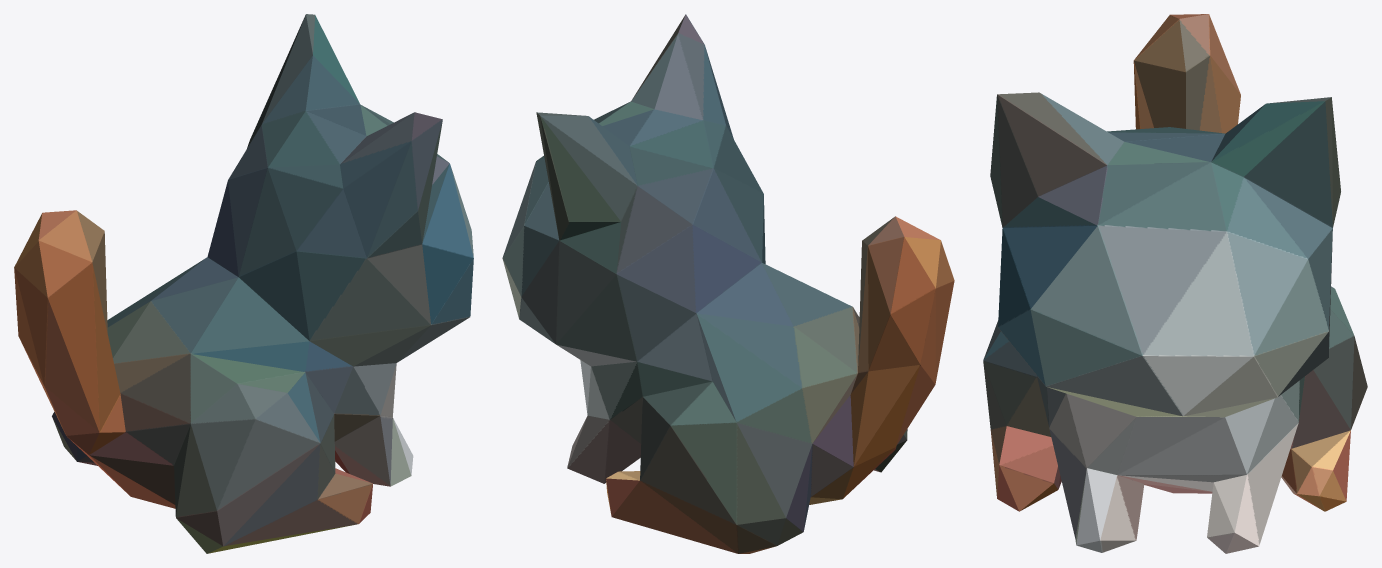
Rendered from cat.glb.
The picture shows the model from 3 angles, left to right: view 1: azimuth 30°, elevation 25°; view 2: azimuth 150°, elevation 25°; view 3: azimuth 270°, elevation 25°; orthographic projection. The views are drawn at different scales.
Size of the model in its own units: 1.62 by 1.43 by 1.06.
1 material, 1 textured.
